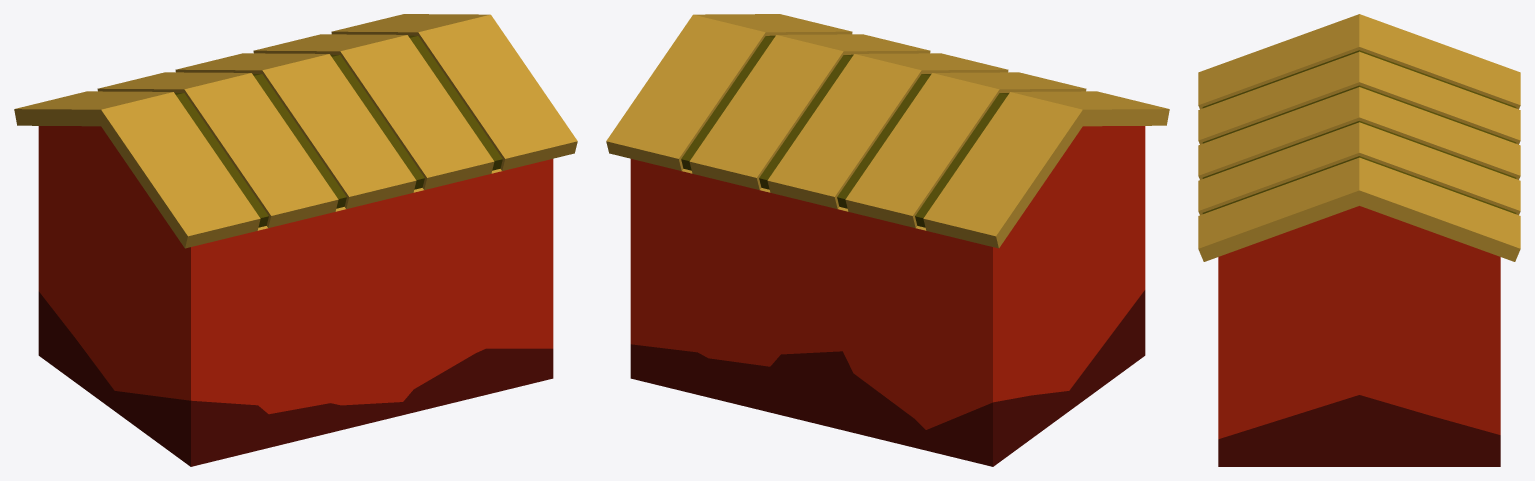
Rendered from House_Orange.fbx.
3 views of the same model, side by side, from view 1: azimuth 30°, elevation 25°; view 2: azimuth 150°, elevation 25°; view 3: azimuth 270°, elevation 25° (orthographic). The views are drawn at different scales.
Visible parts, largest first — view 1: Mesh (3); view 2: Mesh (3); view 3: Mesh (3).
Part boxes in pixels (box(x1,y1,x2,y2)): Mesh (3): box(14, 14, 577, 466); Mesh (3): box(606, 14, 1169, 466); Mesh (3): box(1198, 14, 1520, 466).
Bounding box in the file's own units: 702 × 524 × 542.
